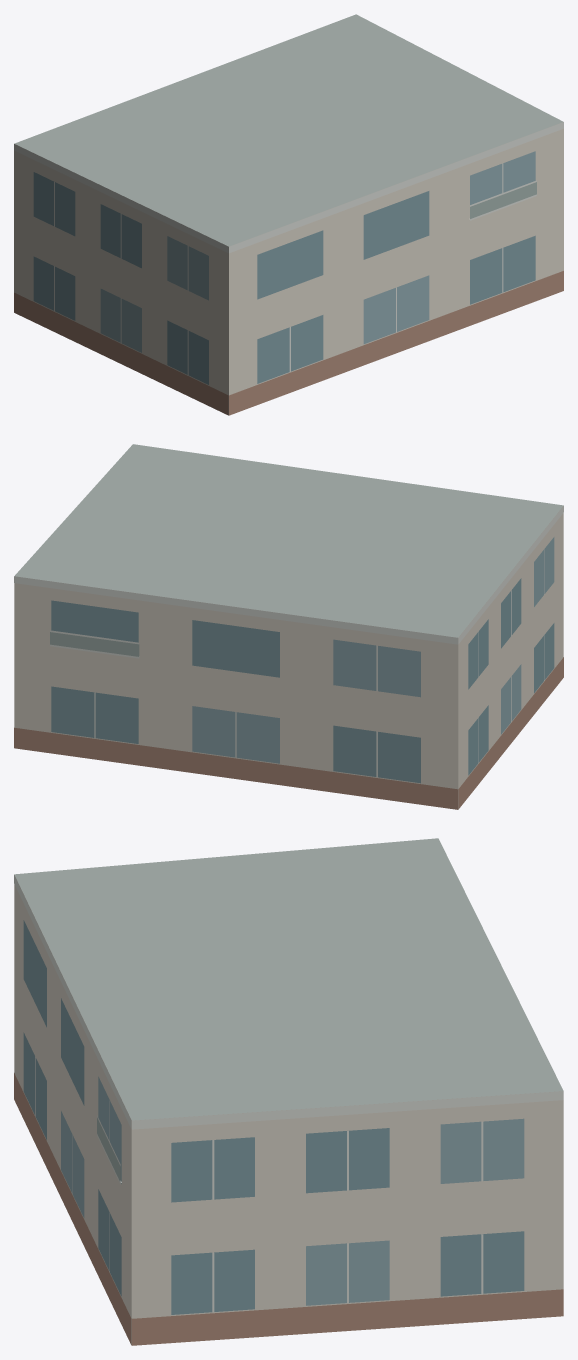
File: survey-upis-32935924.glb
3 renders of one model, top to bottom at view 1: azimuth 30°, elevation 25°; view 2: azimuth 150°, elevation 25°; view 3: azimuth 270°, elevation 25°, orthographic. The views are drawn at different scales.
Parts seen in each view (by area): view 1: survey-upis-32935924.tmp; view 2: survey-upis-32935924.tmp; view 3: survey-upis-32935924.tmp.
Boxes of the visible parts, x1,y1,x2,y2 form: survey-upis-32935924.tmp: (14,14,563,415); survey-upis-32935924.tmp: (14,444,563,809); survey-upis-32935924.tmp: (14,838,563,1345).
Size of the model in its own units: 16.43 by 6.1 by 13.51.
